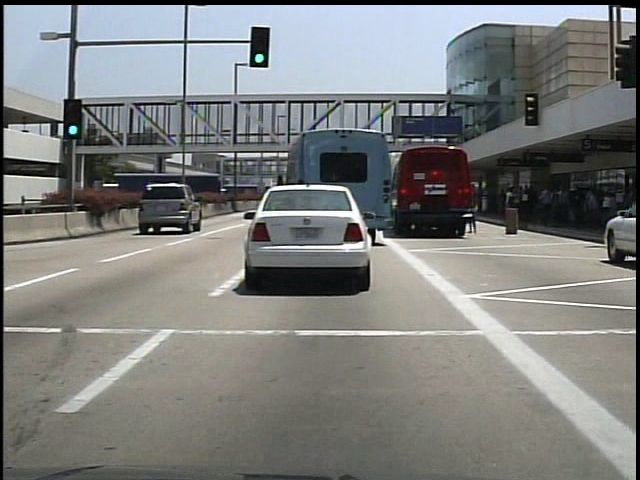person: (473, 186, 487, 236)
